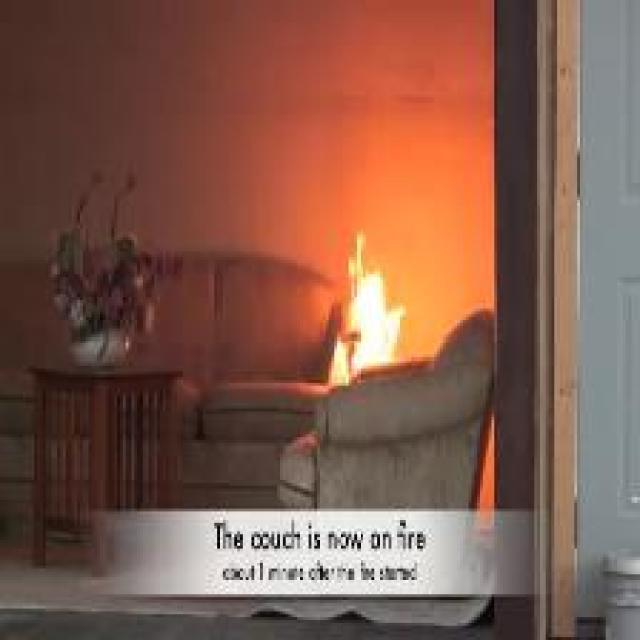Fire: (317, 232, 408, 394)
